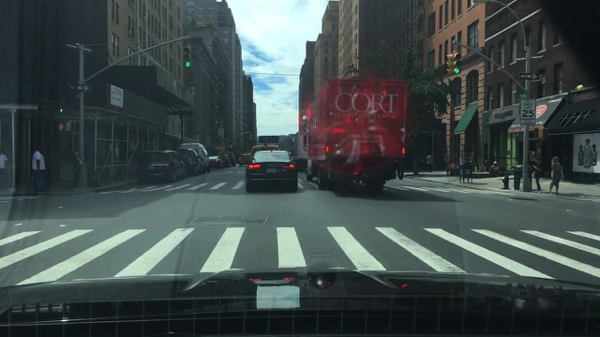car: (243, 150, 299, 194), (134, 150, 187, 184), (178, 141, 211, 174), (176, 148, 206, 175), (248, 143, 279, 154), (218, 150, 237, 167), (237, 152, 253, 169), (213, 153, 231, 168), (209, 154, 225, 168)
person: (32, 145, 47, 196), (547, 157, 566, 196), (71, 148, 85, 189), (529, 154, 542, 195), (0, 147, 8, 191), (444, 159, 455, 177), (425, 151, 433, 175), (488, 160, 499, 175), (455, 160, 462, 176)
traffic light: (453, 52, 461, 77), (444, 53, 452, 77), (184, 46, 192, 67), (534, 126, 544, 140), (58, 122, 66, 131), (543, 128, 548, 138), (248, 134, 253, 140)
traffic sign: (518, 97, 536, 127), (71, 85, 92, 93), (518, 74, 541, 80)
truck: (305, 79, 408, 194), (291, 129, 311, 170)
